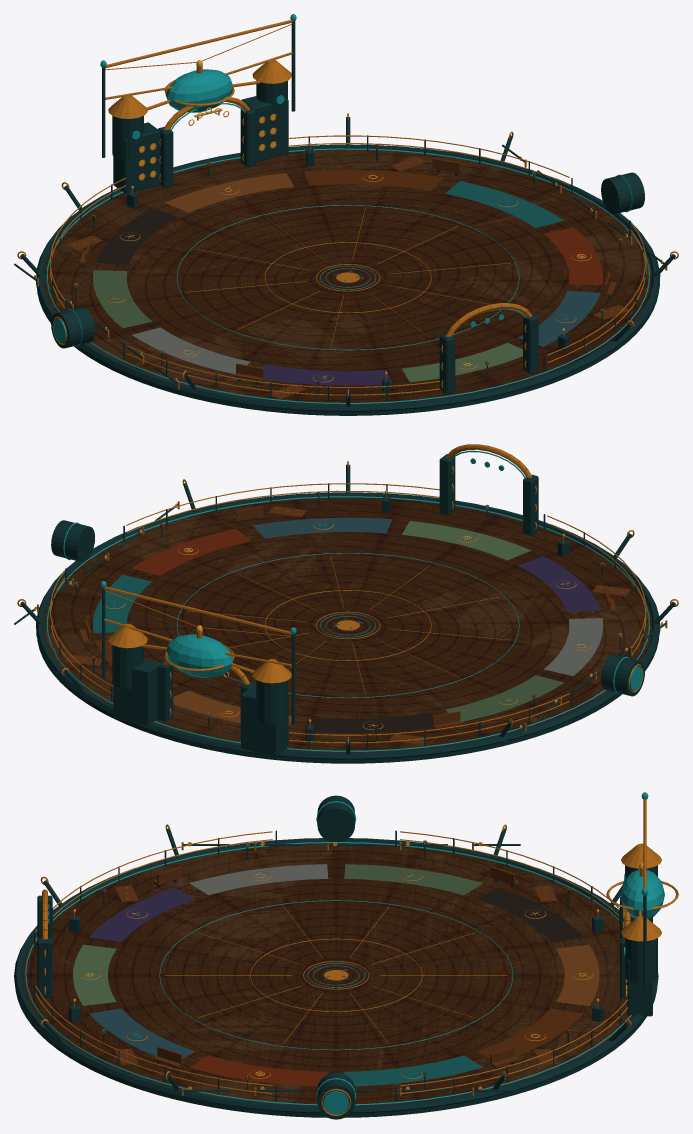
Rendered from ark-plaza-e10.glb.
3 renders of one model, top to bottom at view 1: azimuth 30°, elevation 25°; view 2: azimuth 150°, elevation 25°; view 3: azimuth 270°, elevation 25°, orthographic. The views are drawn at different scales.
Parts seen in each view (by area): view 1: ArkPlazaE10; view 2: ArkPlazaE10; view 3: ArkPlazaE10.
Boxes of the visible parts, x1,y1,x2,y2 form: ArkPlazaE10: (14, 14, 678, 415); ArkPlazaE10: (14, 444, 678, 763); ArkPlazaE10: (14, 792, 678, 1119).
Size of the model in its own units: 49.26 by 11.2 by 47.6.
Materials: 1 (1 with a texture image).
